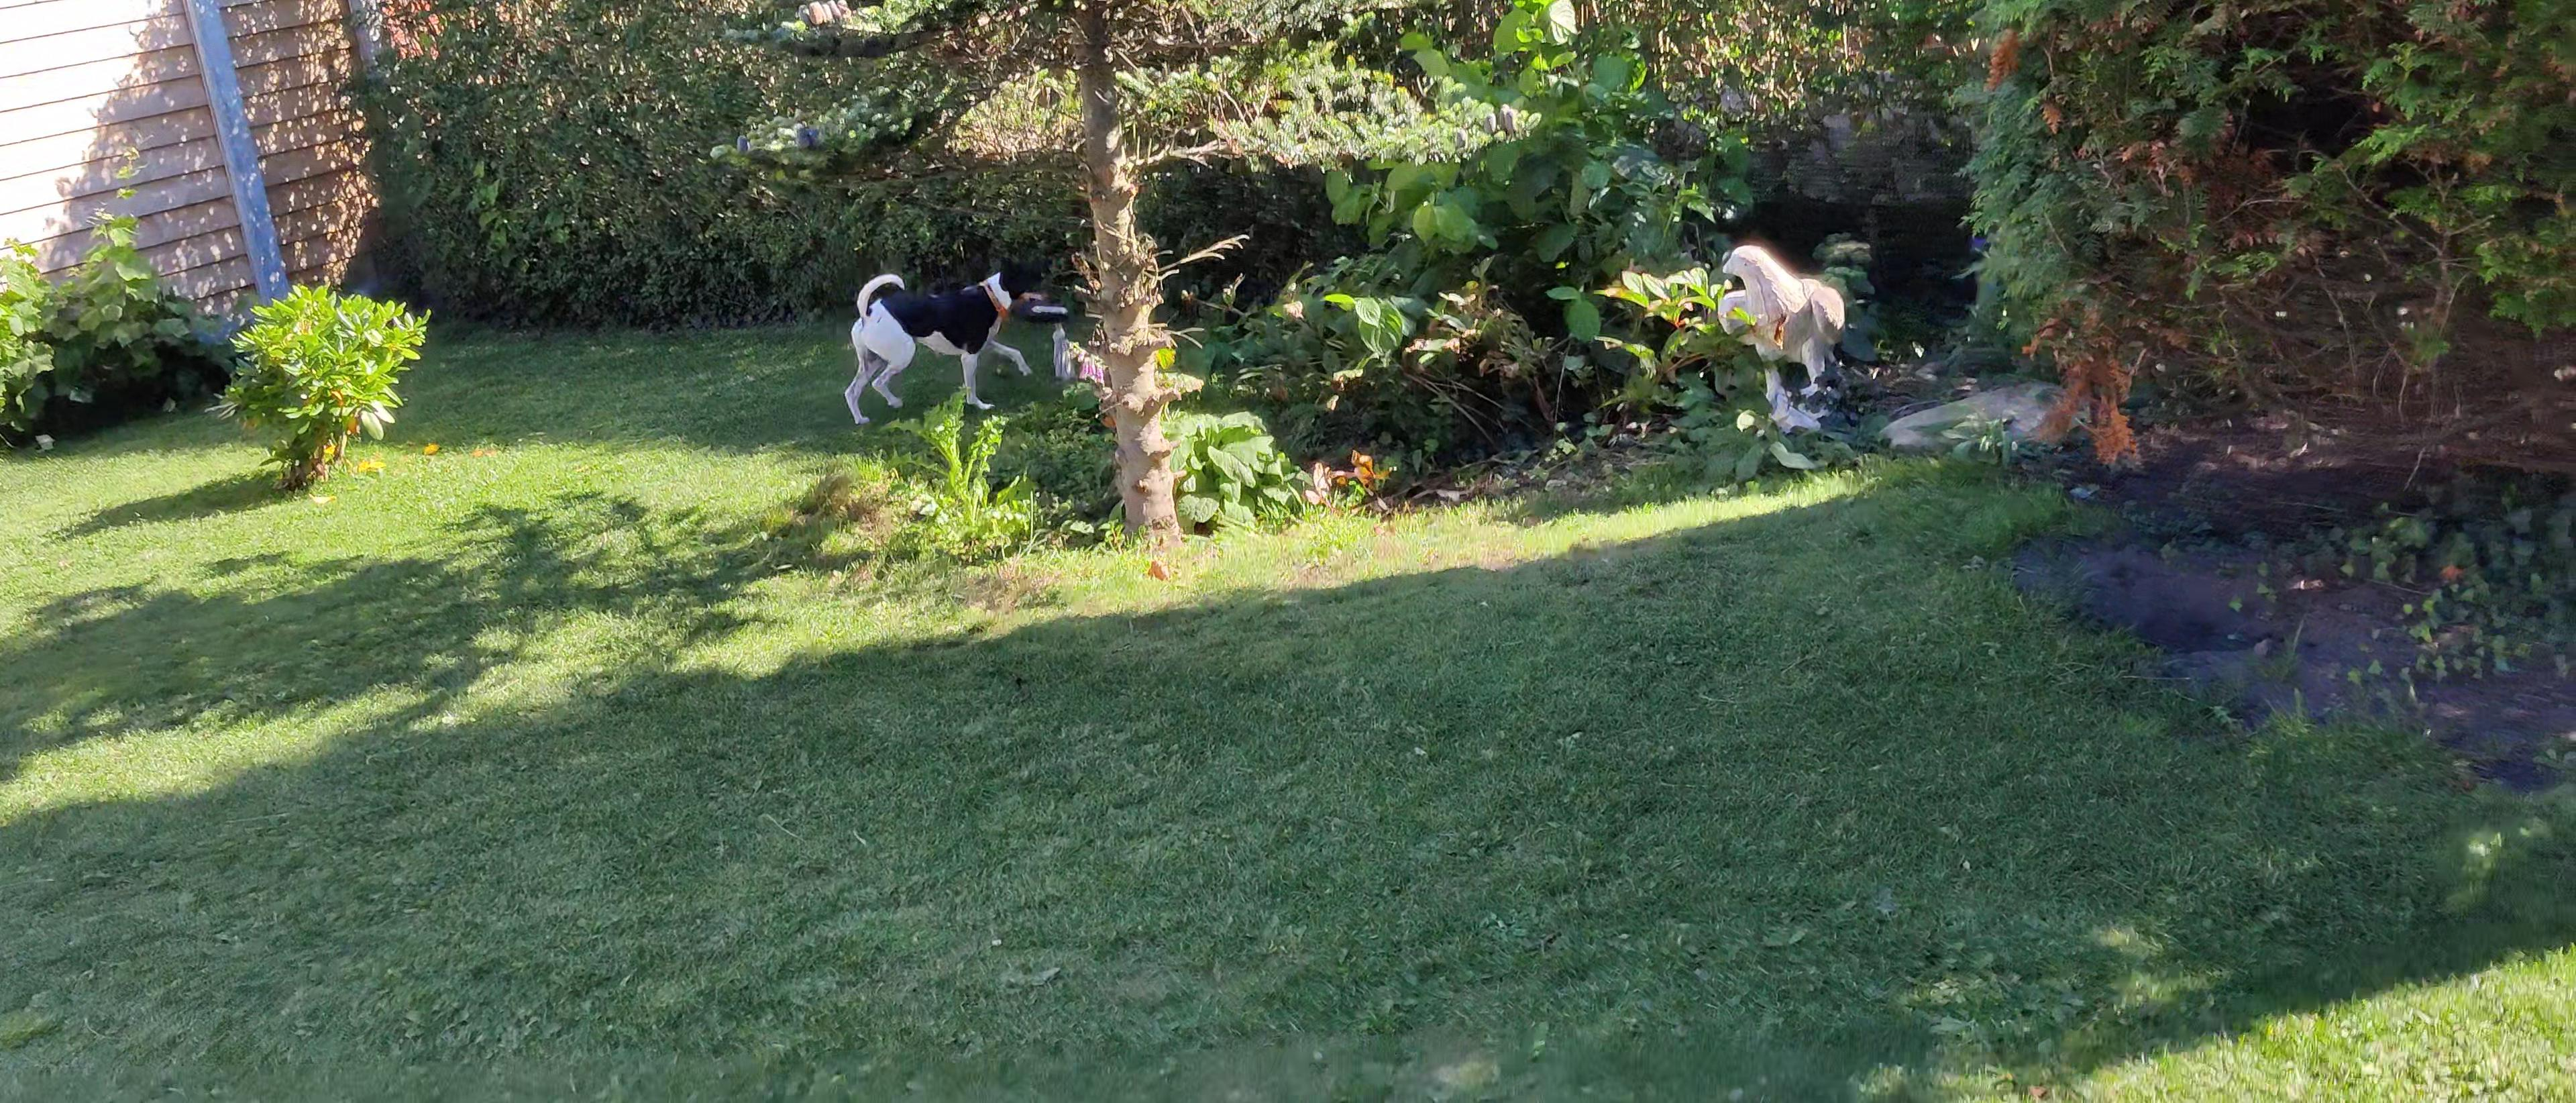Dog: (843, 252, 1058, 426)
